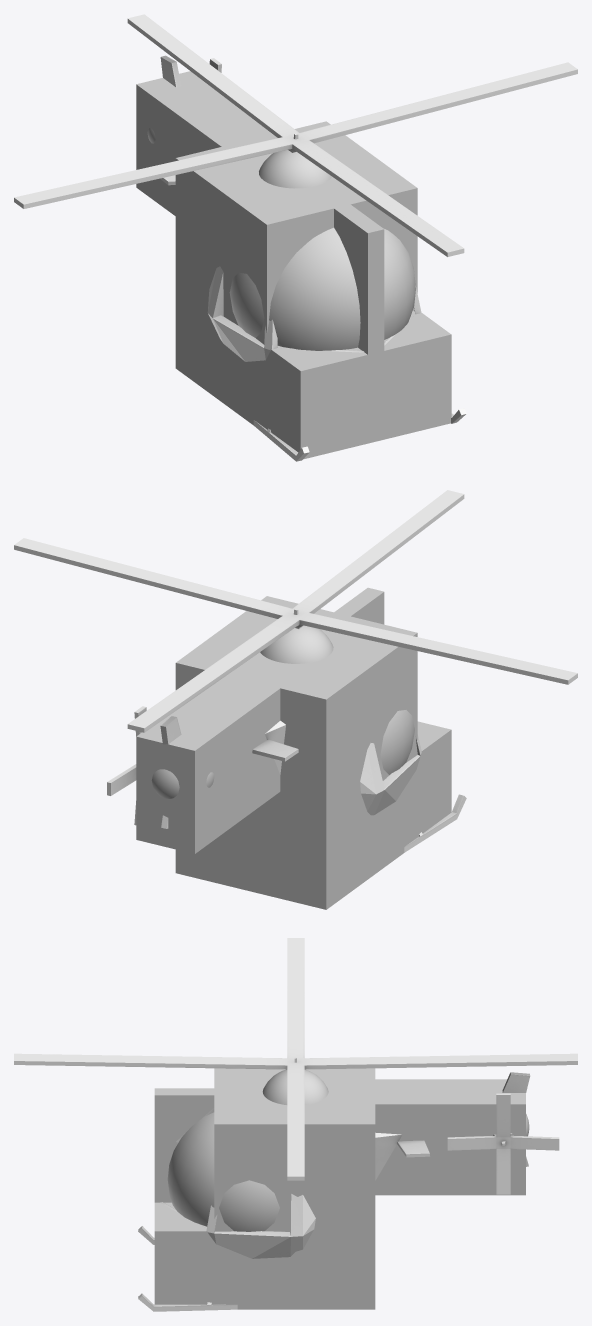
The model's file is heli.fbx.
The picture shows the model from 3 angles, top to bottom: view 1: azimuth 30°, elevation 25°; view 2: azimuth 150°, elevation 25°; view 3: azimuth 270°, elevation 25°; orthographic projection. The views are drawn at different scales.
Visible parts, largest first — view 1: Cube.006, Cube.004, Sphere.007, Cube.008, Cube.007, Cube.005, Cube.001, Cube, Sphere.005, door_R; view 2: Cube.006, Cube.007, Cube.004, Cube, Cube.008, Sphere.005, Sphere.007, Cube.001, door_R, Sphere.004, Cube.002; view 3: Cube.006, Cube.007, Cube.004, Sphere.007, Cube.005, Cube, Cube.001, Cube.002, door_L, Sphere.005.
Boxes of the visible parts, x1,y1,x2,y2 form: Cube.006: (175,121,417,428); Cube.004: (14,14,577,256); Sphere.007: (229,227,415,350); Cube.008: (267,346,367,459); Cube.007: (136,71,272,215); Cube.005: (384,310,451,439); Cube.001: (334,204,384,443); Cube: (160,55,466,461); Sphere.005: (259,150,331,188); door_R: (213,315,265,361); Cube.006: (175,596,417,909); Cube.007: (136,675,280,853); Cube.004: (14,490,577,732); Cube: (160,609,466,852); Cube.008: (417,721,451,836); Sphere.005: (260,625,333,663); Sphere.007: (380,710,414,774); Cube.001: (334,587,384,624); door_R: (374,755,420,814); Sphere.004: (151,769,214,798); Cube.002: (107,706,146,825); Cube.006: (214,1068,375,1309); Cube.007: (375,1079,525,1195); Cube.004: (14,938,577,1180); Sphere.007: (167,1112,279,1231); Cube.005: (154,1202,214,1304); Cube: (138,1057,530,1311); Cube.001: (154,1088,214,1202); Cube.002: (447,1093,559,1194); door_L: (214,1231,290,1258); Sphere.005: (262,1069,328,1104).
Bounding box in the file's own units: 392 × 169 × 392.
1 material, 1 textured.
